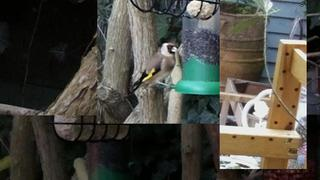goldfinch: (128, 40, 180, 94)
